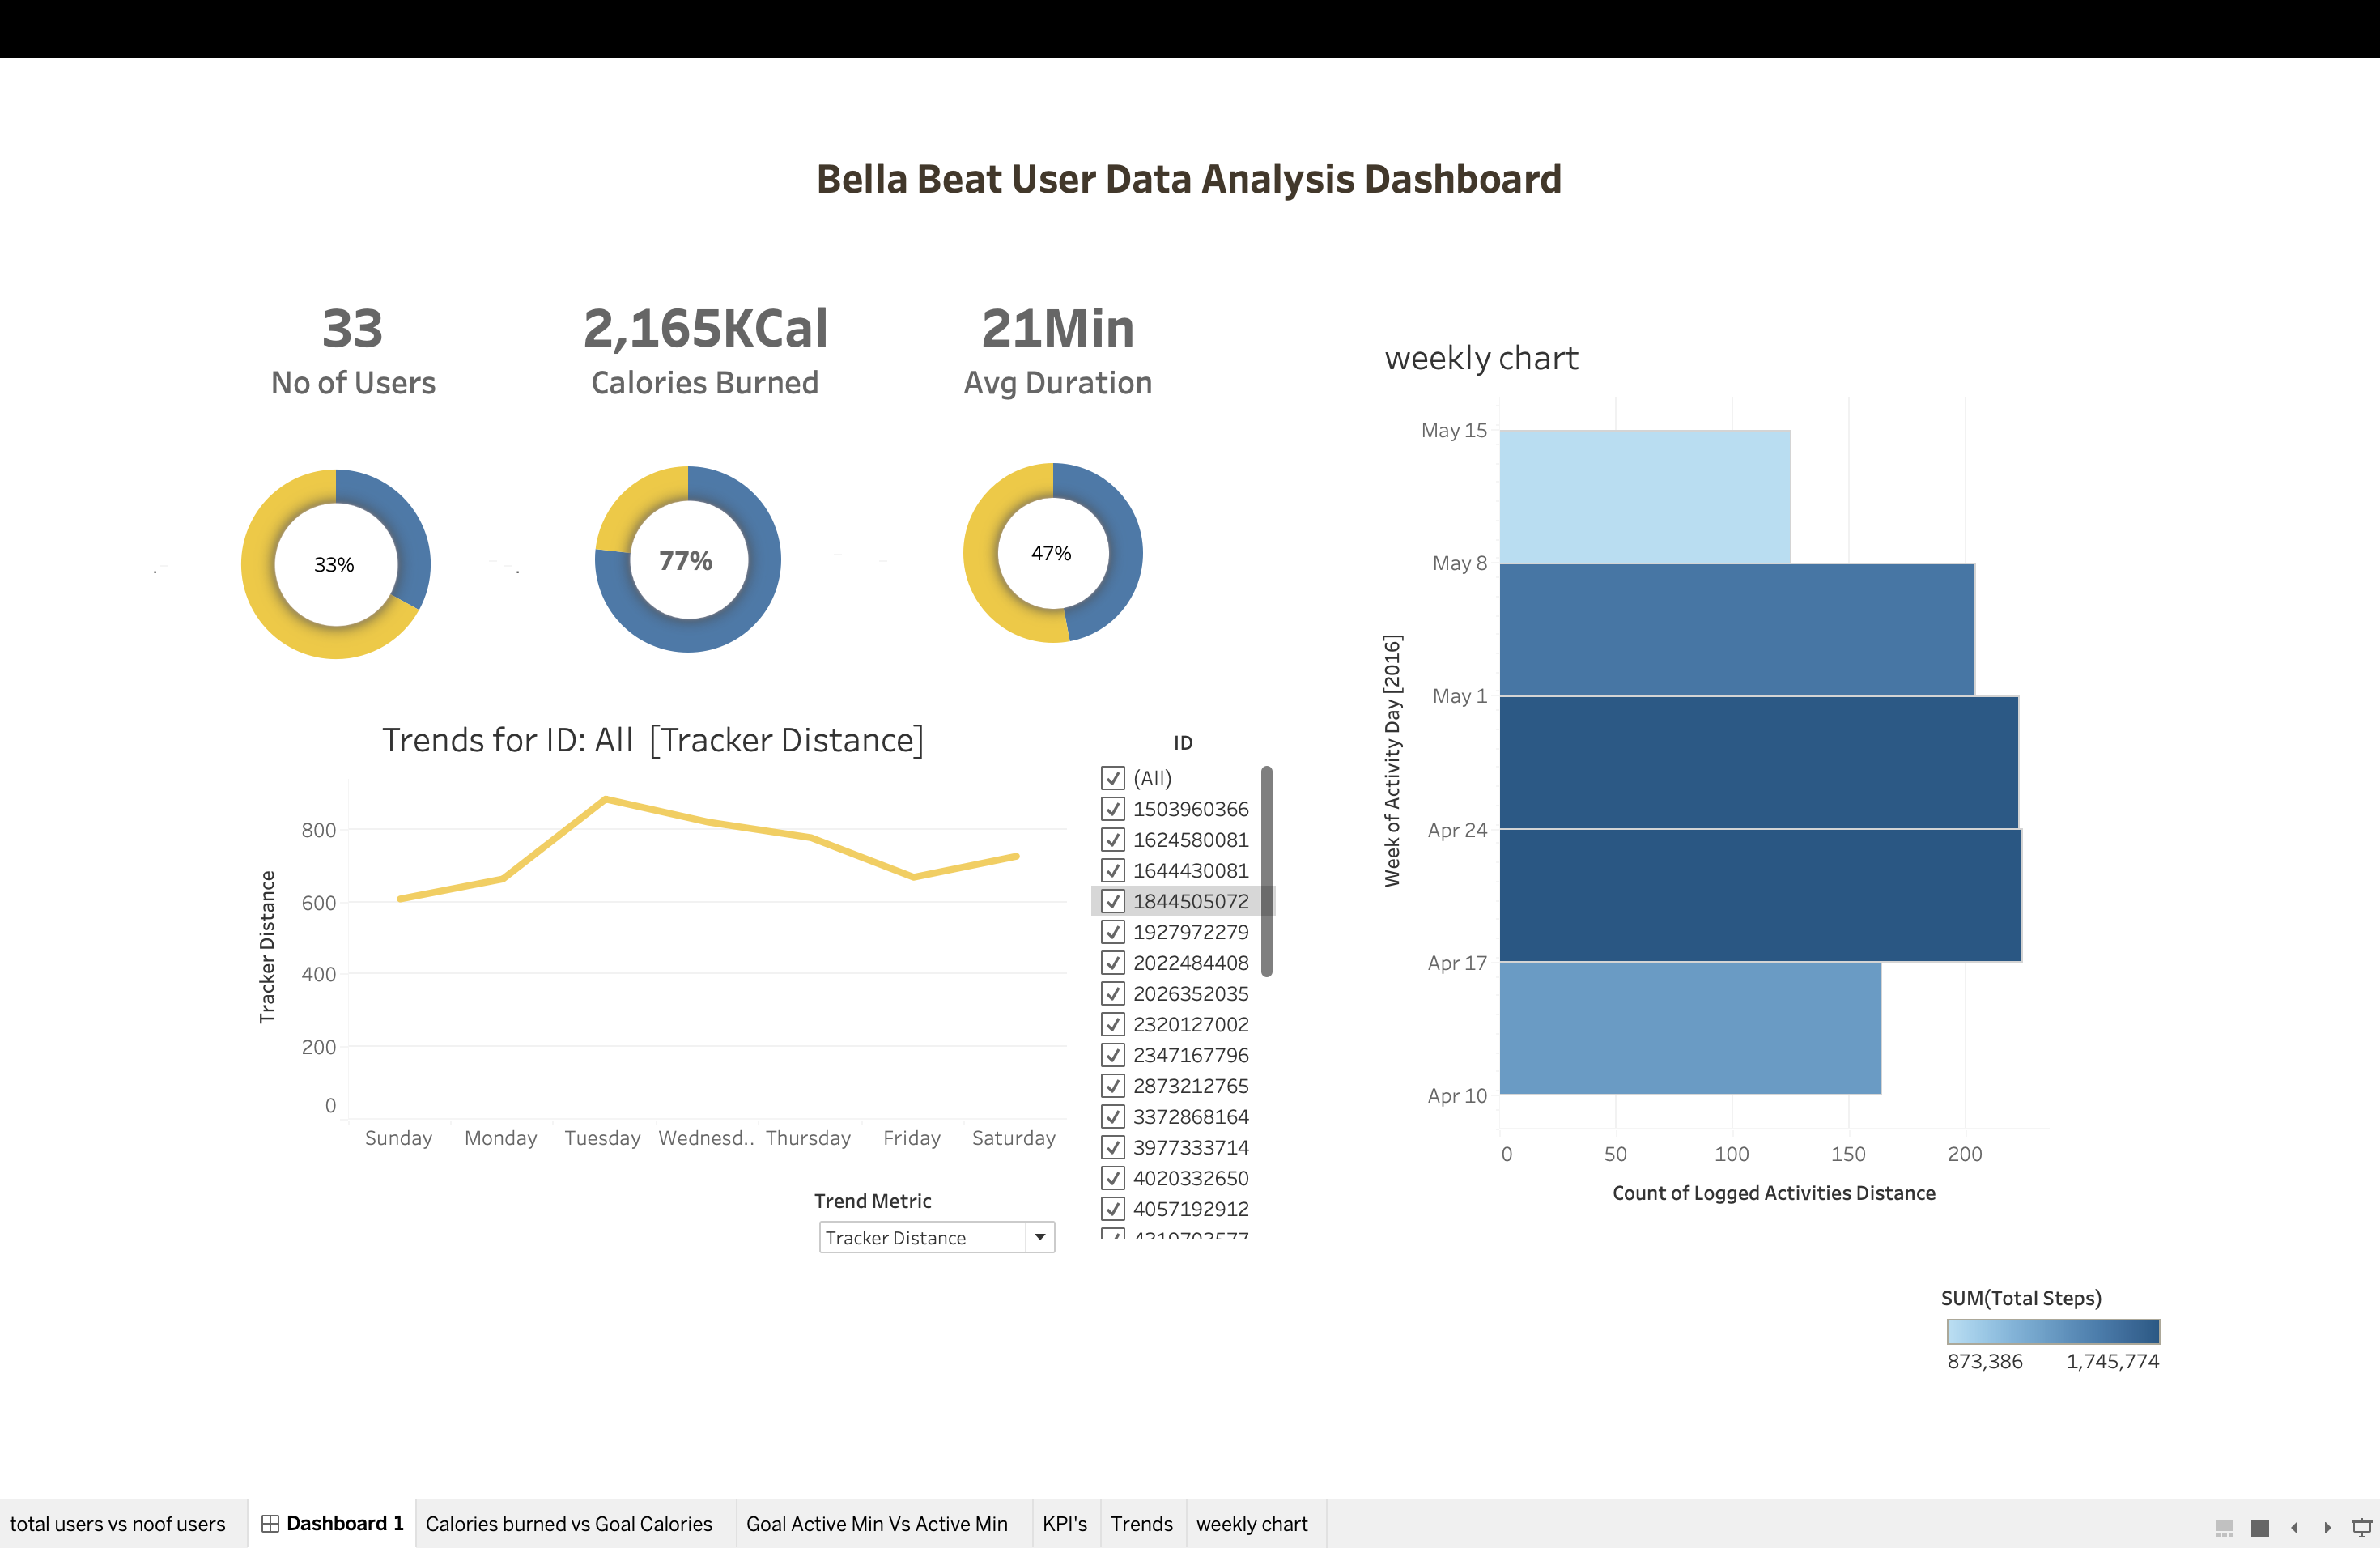

The dashboard page shown, as its layout file describes it:
{"tool":"tableau","page":{"name":"Dashboard 1","canvas":[1250,800],"ordinal":0},"visuals":[{"type":"title","box":[8,8,1234,41]},{"type":"worksheet","title":"KPI's","mark":"Automatic","box":[0,53,653,145]},{"type":"worksheet","title":"weekly chart","mark":"Bar","rows":["ActivityDay"],"cols":["LoggedActivitiesDistance"],"box":[741,121,415,550]},{"type":"worksheet","title":"Goal Active Min Vs Active Min","mark":"Automatic","rows":["Calculation_5022991339743424544","Calculation_5022991339743440930"],"box":[398,173,273,175]},{"type":"worksheet","title":"Calories burned vs Goal Calories","mark":"Automatic","rows":["Calculation_5022991339372380175","Calculation_5022991339372396561"],"box":[185,178,261,173]},{"type":"worksheet","title":"Trends","mark":"Line","rows":["Calculation_5022991340119699506"],"cols":["DayOfWeek"],"box":[39,357,510,274]},{"type":"filter","title":"Trends","param":"[federated.17otk551h90xhu10av0k510vzi5o].[none:Id:ok]","box":[564,369,114,315]},{"type":"parameter","param":"[Parameters].[Parameter 4]","box":[393,652,152,44]},{"type":"legend","title":"weekly chart","param":"[federated.17otk551h90xhu10av0k510vzi5o].[sum:TotalSteps:qk]","box":[1089,712,140,76]}]}

Visuals, with their boxes on the page's 1250x800 design canvas (x1, y1, x2, y2). These are canvas units, not pixel positions in the 2380x1548 screenshot, which may show the page scaled, cropped or inside an application window:
title: [8, 8, 1242, 49]
"KPI's" worksheet: [0, 53, 653, 198]
"weekly chart" worksheet (Bar marks): [741, 121, 1156, 671]
"Goal Active Min Vs Active Min" worksheet: [398, 173, 671, 348]
"Calories burned vs Goal Calories" worksheet: [185, 178, 446, 351]
"Trends" worksheet (Line marks): [39, 357, 549, 631]
"Trends" filter: [564, 369, 678, 684]
parameter: [393, 652, 545, 696]
"weekly chart" legend: [1089, 712, 1229, 788]
